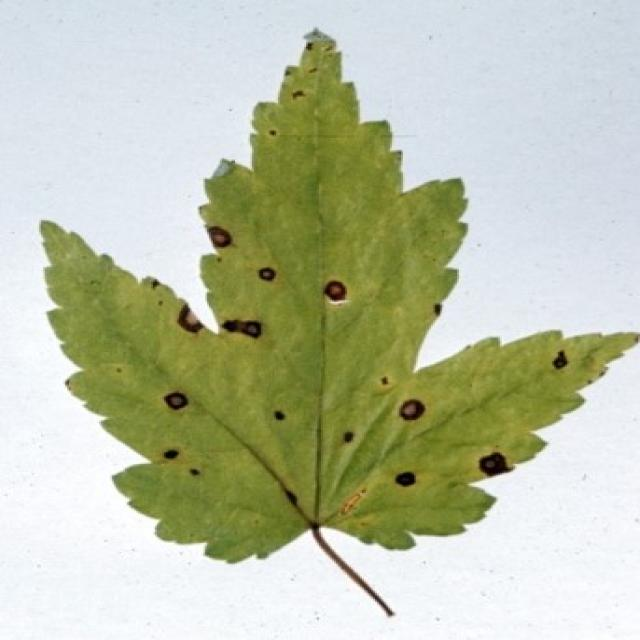Cotton Ball Rot: (392, 394, 431, 426), (317, 276, 353, 308)
Target Spot: (34, 25, 638, 621)
